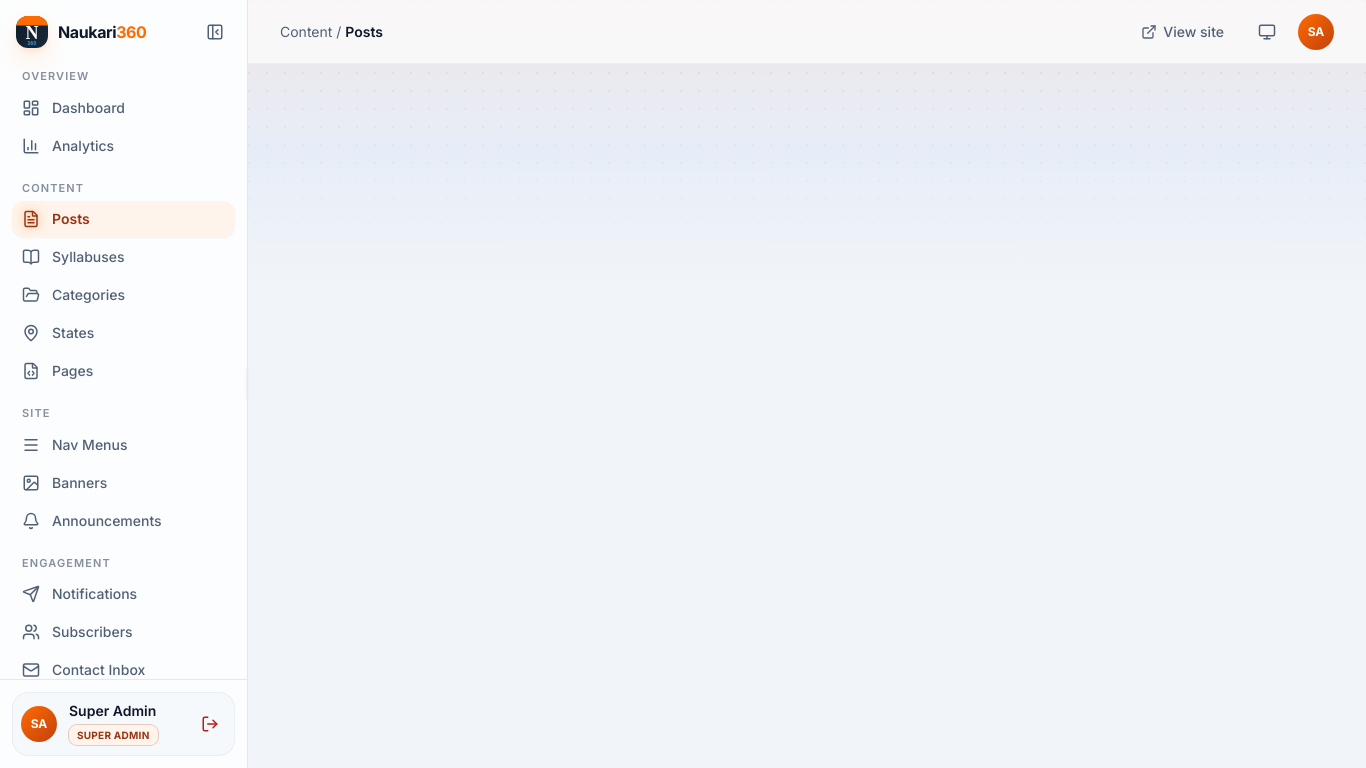
AdminShell › collapses the desktop sidebar to icons and remembers it
This screenshot has width=1366, height=768.
Click the button named "Collapse sidebar".
click(215, 32)  # box top-left (199, 16), bottom-right (231, 48)
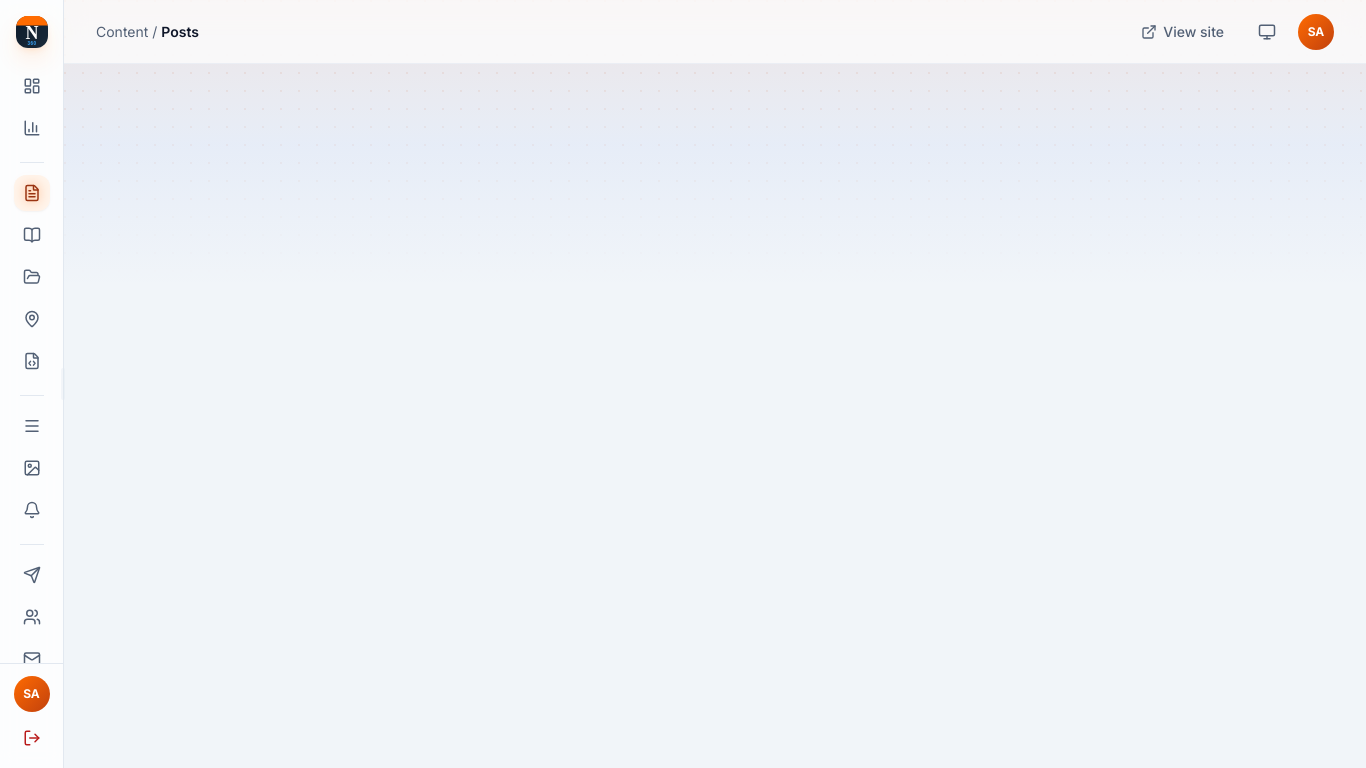
Click the button named "Expand sidebar".
click(32, 32)  # box top-left (16, 16), bottom-right (48, 48)
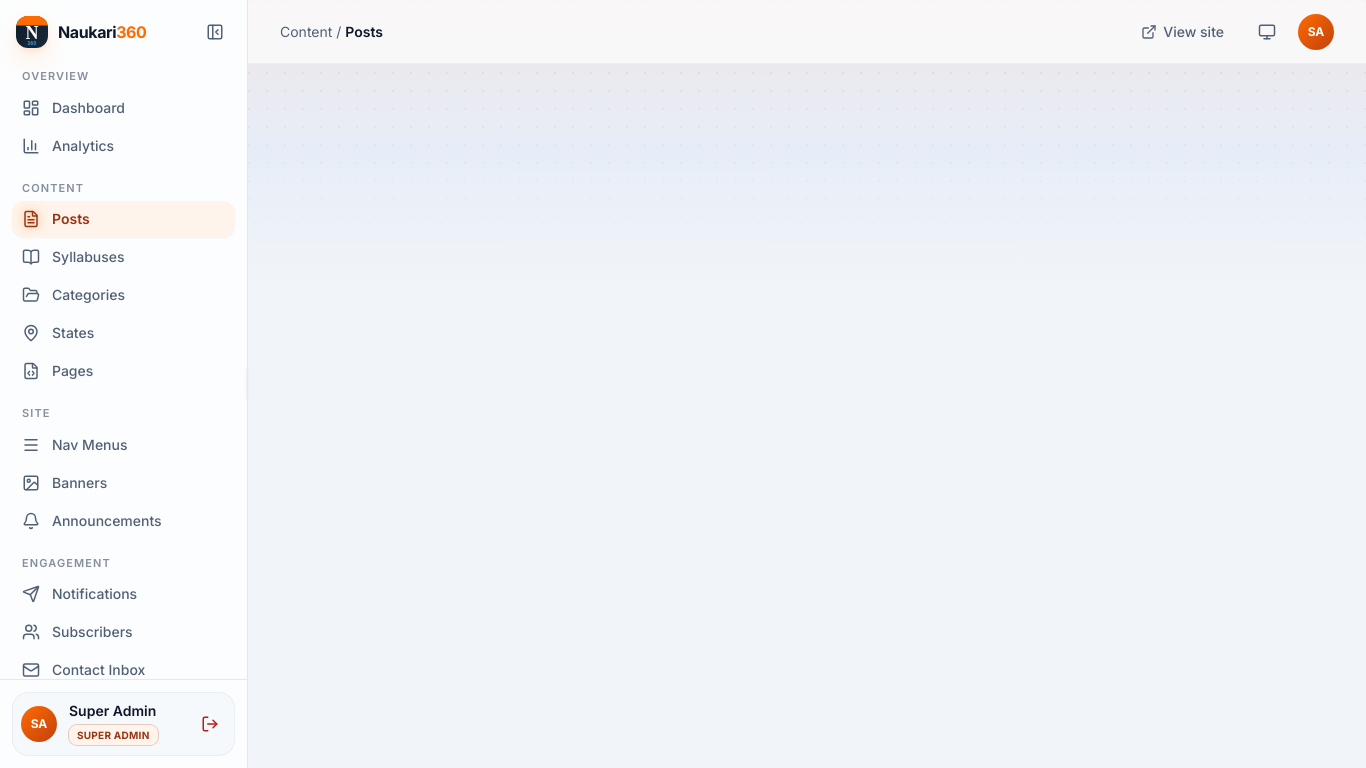
expect the text "Posts" below "Analytics" is shown: met, box top-left (52, 210), bottom-right (90, 227)
